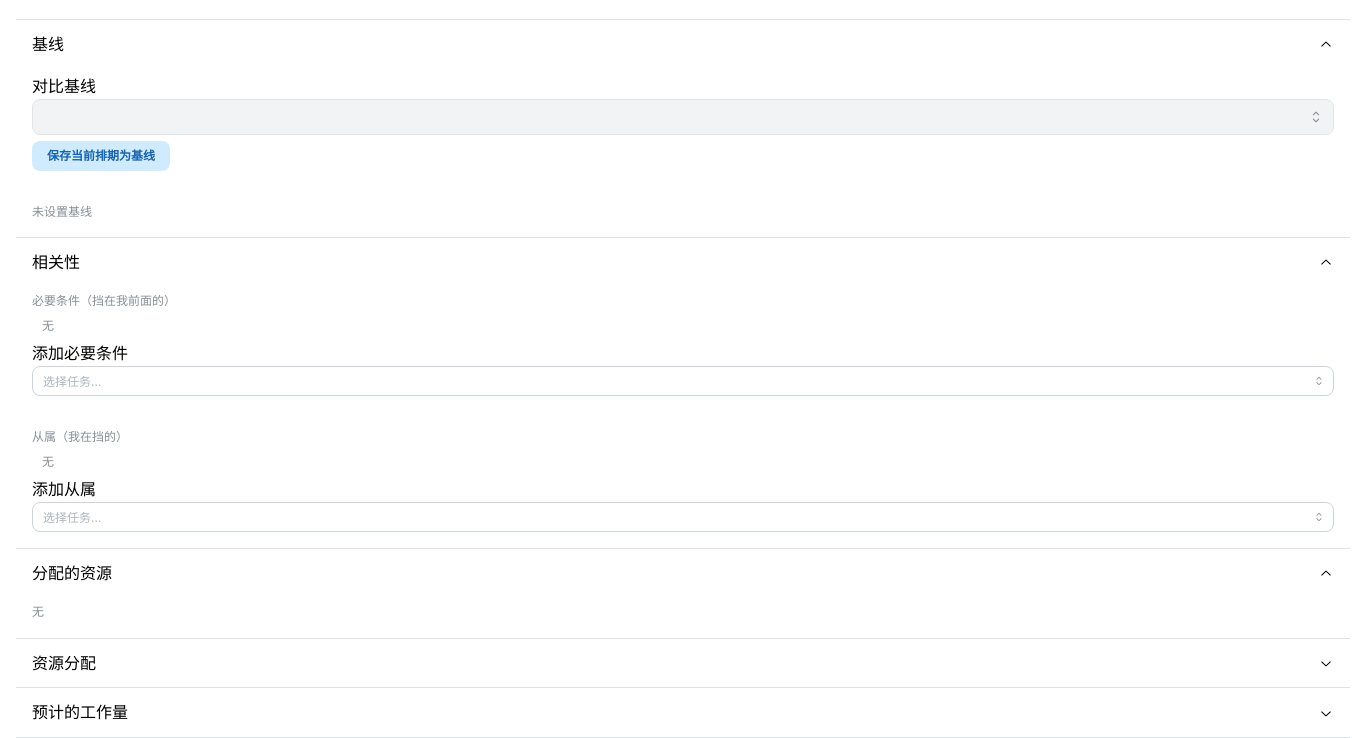
Test: 相关性组（必要条件 / 从属两段） › 行内改类型与 lag、删除依赖都能生效
(page scrolled)
Step 1. Click the dropdown labelled "添加必要条件" → x=683, y=381, box [32,366,1334,396]
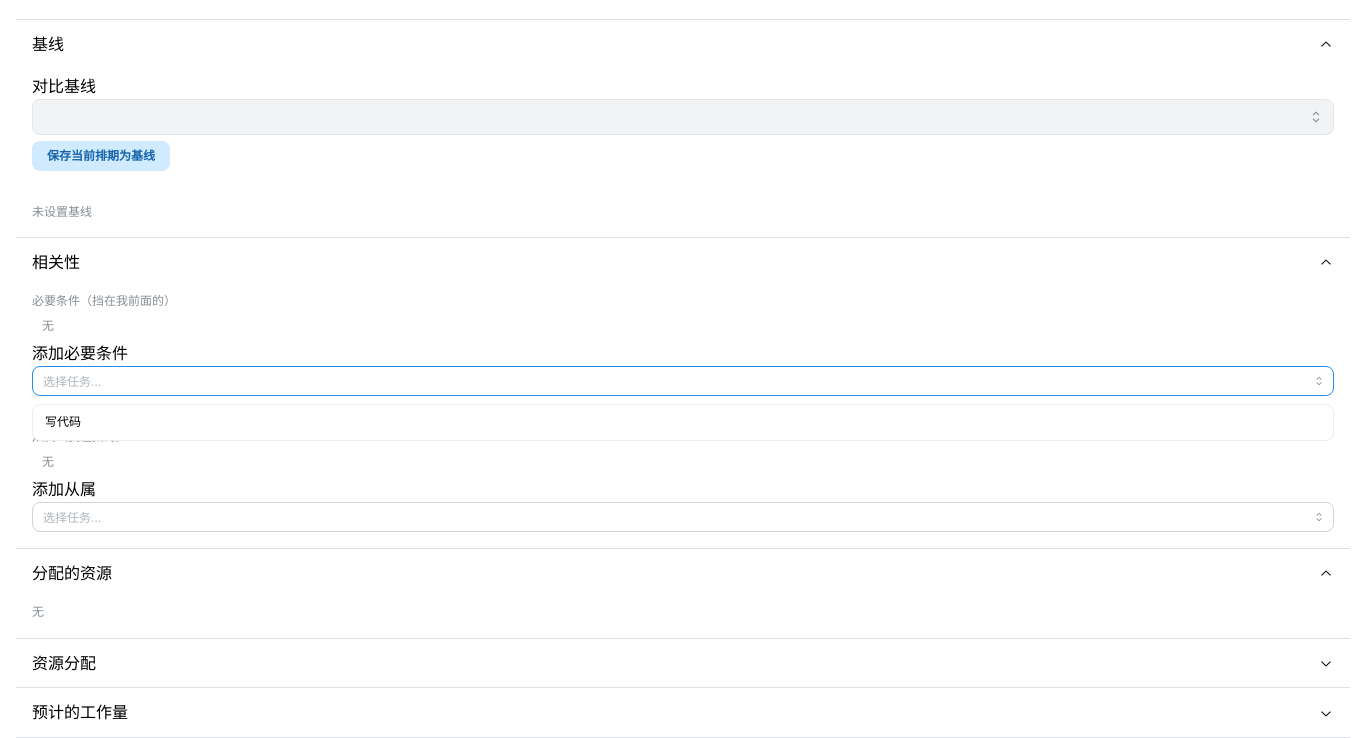
Step 2. Click the option "写代码" → x=63, y=422, box [45,414,81,429]
(page scrolled)
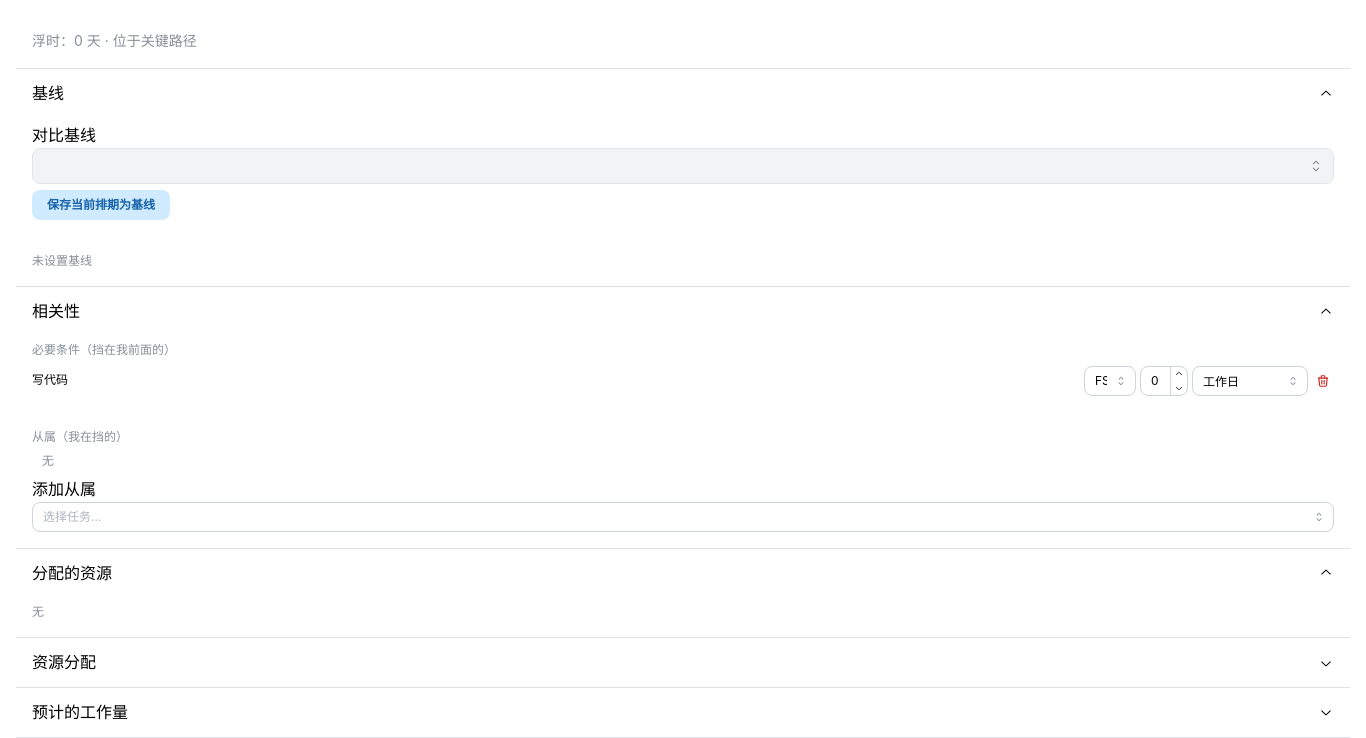
Step 3. Click the dropdown named "必要条件（挡在我前面的） 写代码" → x=1110, y=381, box [1084,366,1136,396]
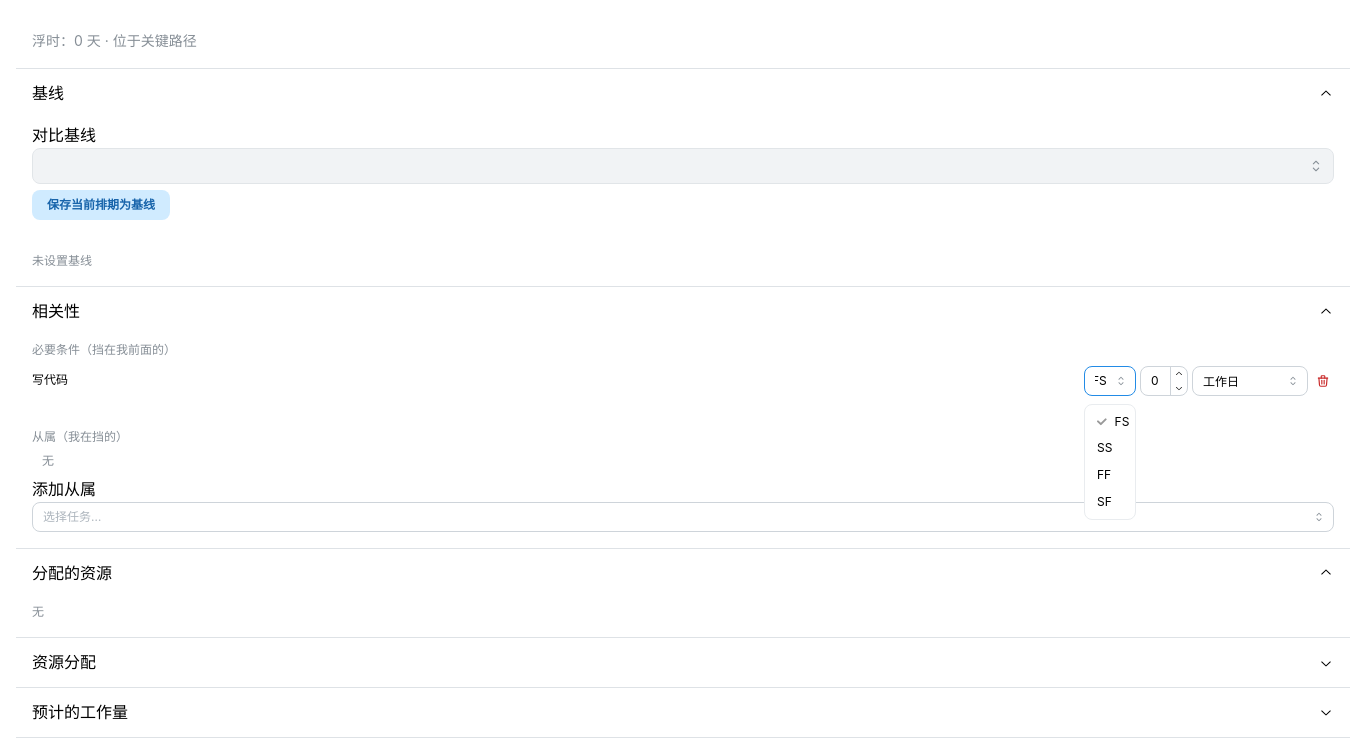
Step 4. Click the option "SS" → x=1105, y=448, box [1097,440,1112,455]
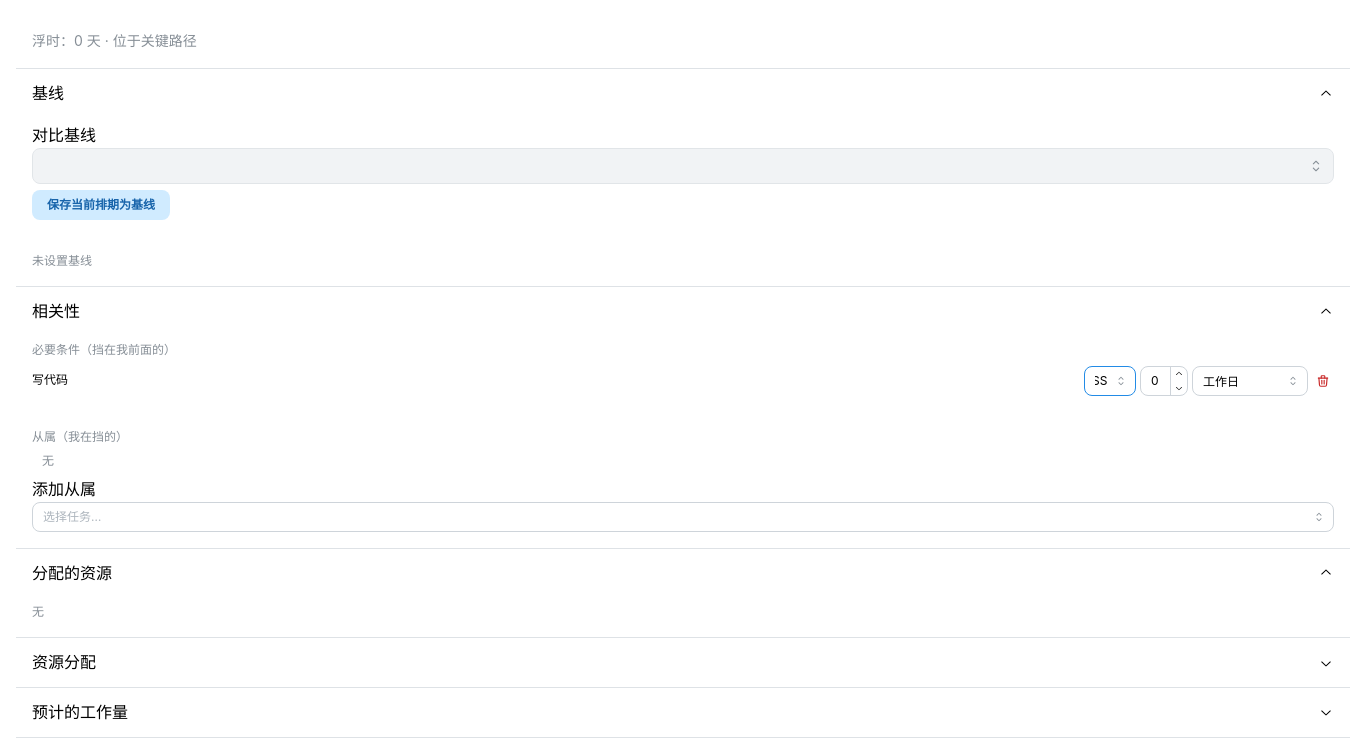
Step 5. Replace the text in the field named "延迟 写代码" with "2" → x=1164, y=381, box [1140,366,1188,396]
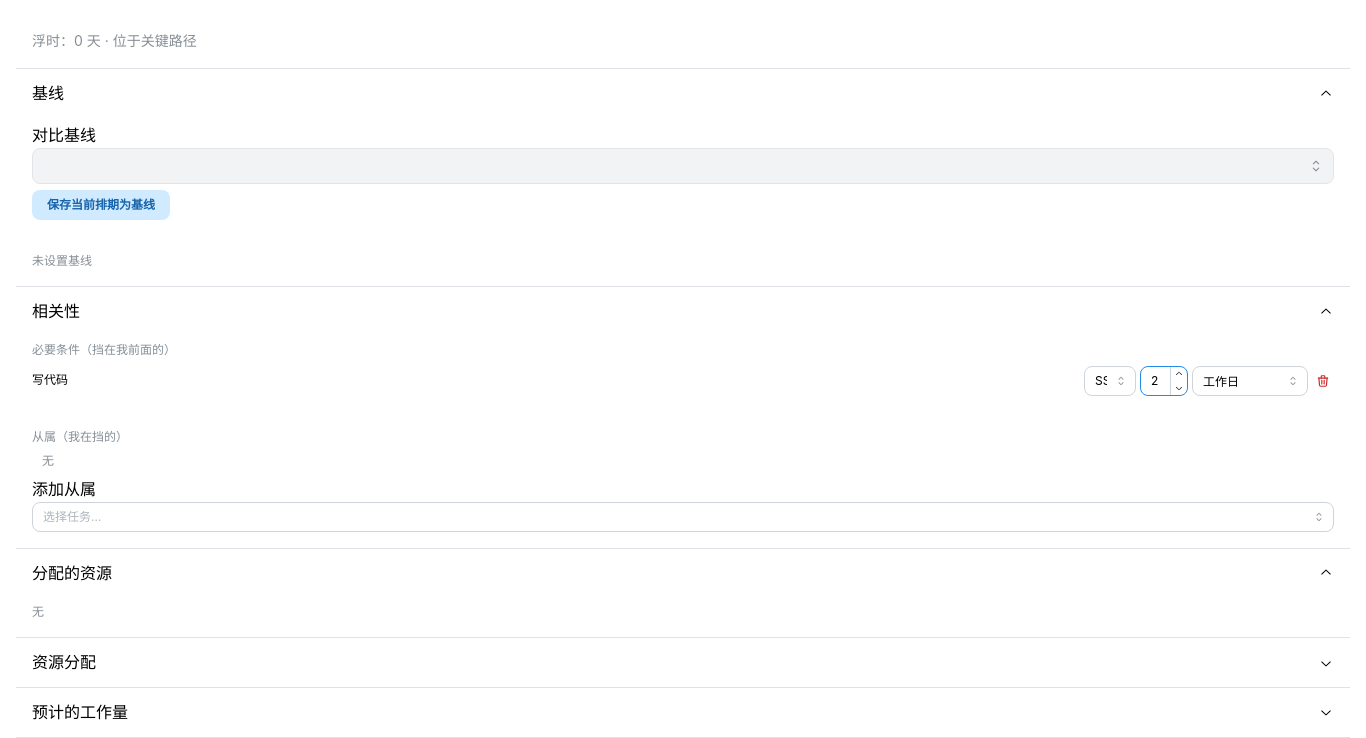
Step 6. Click the button named "删除依赖 写代码" → x=1323, y=381, box [1312,370,1334,392]
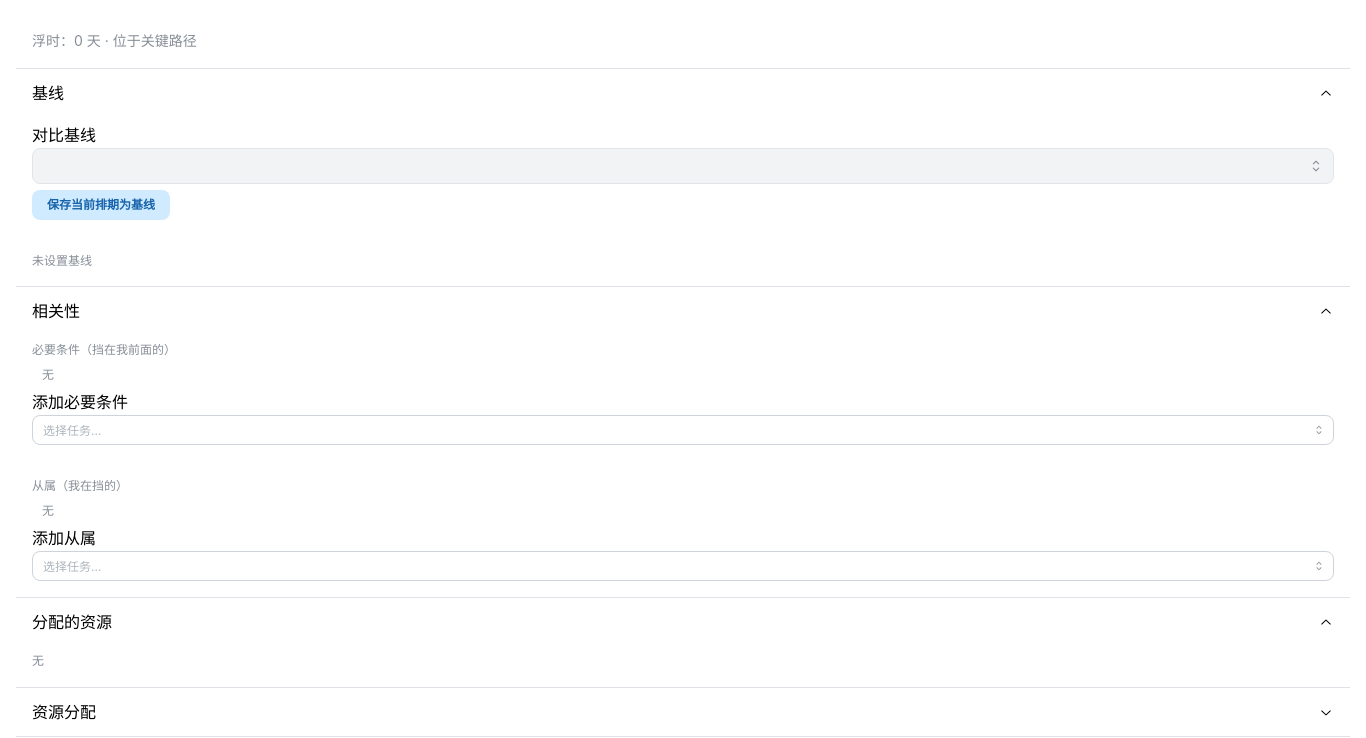
Expected: the text "无" below "从属（我在挡的）" is shown, [42,503,54,518]
Expected: the text "无" below "必要条件（挡在我前面的）" is shown, [42,367,54,382]
